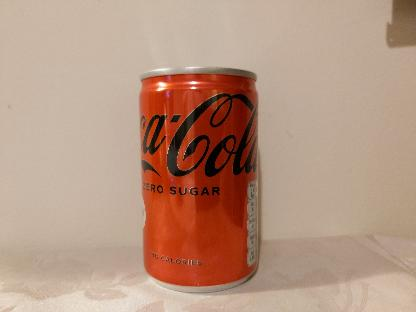Can: (138, 65, 260, 292)
